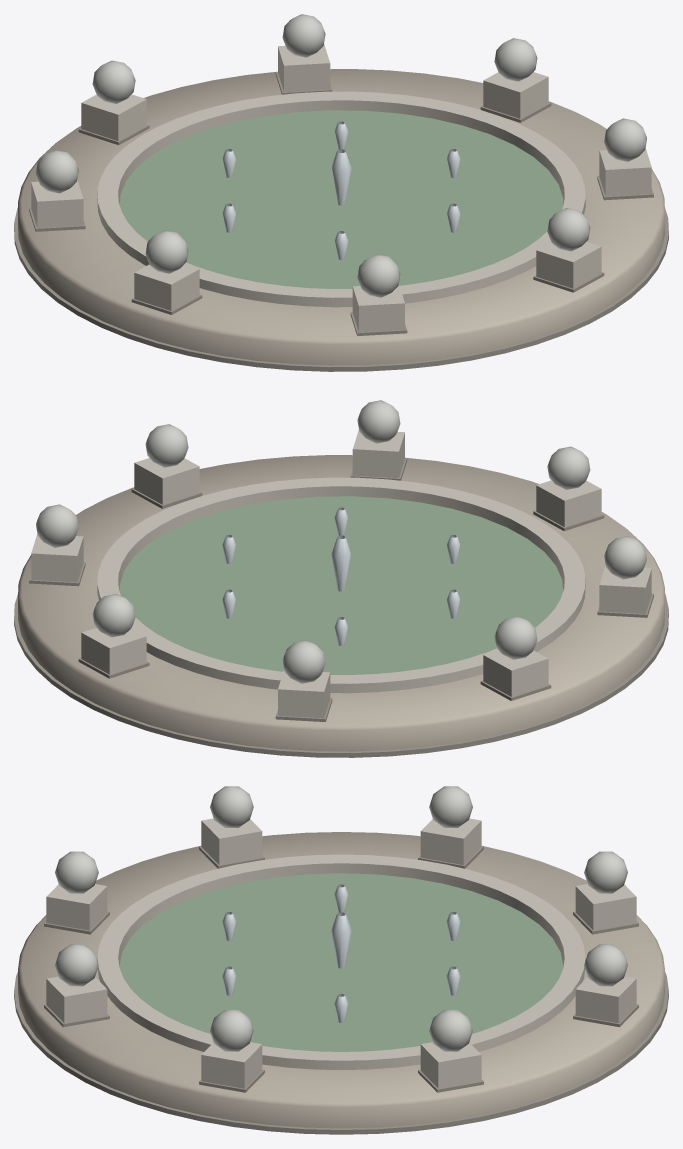
The picture shows the model from 3 angles, top to bottom: view 1: azimuth 30°, elevation 25°; view 2: azimuth 150°, elevation 25°; view 3: azimuth 270°, elevation 25°; orthographic projection.
Parts seen in each view (by area): view 1: base; view 2: base; view 3: base.
Boxes of the visible parts, x1,y1,x2,y2 form: base: [14, 14, 668, 371]; base: [14, 400, 668, 757]; base: [14, 786, 668, 1134].
Size of the model in its own units: 10.12 by 1.66 by 10.12.
